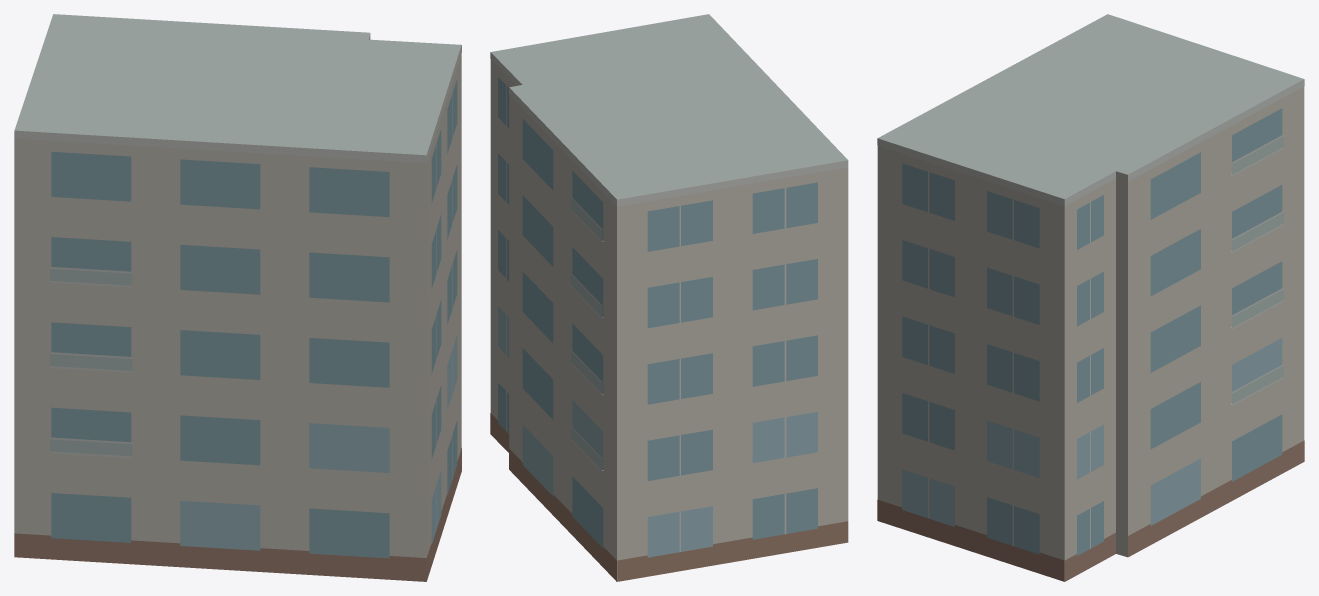
File: survey-upis-33011527.glb
3 renders of one model, left to right at view 1: azimuth 30°, elevation 25°; view 2: azimuth 150°, elevation 25°; view 3: azimuth 270°, elevation 25°, orthographic. The views are drawn at different scales.
Visible parts, largest first — view 1: survey-upis-33011527.tmp; view 2: survey-upis-33011527.tmp; view 3: survey-upis-33011527.tmp.
Part boxes in pixels (x1,y1,x2,y2): survey-upis-33011527.tmp: [14, 14, 461, 581]; survey-upis-33011527.tmp: [490, 14, 848, 581]; survey-upis-33011527.tmp: [877, 14, 1304, 581].
Bounding box in the file's own units: 13.61 × 13.1 × 13.26.
